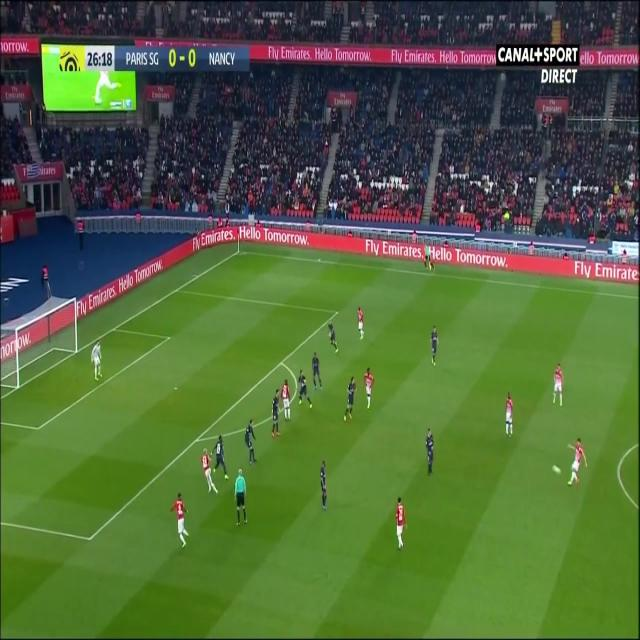Ball: (552, 461, 564, 478)
Goalkeeper: (90, 338, 104, 382)
Player: (168, 488, 192, 552), (393, 493, 412, 558), (566, 434, 588, 490), (200, 444, 223, 497), (210, 429, 230, 480), (242, 413, 260, 468), (342, 371, 358, 427), (503, 389, 519, 444), (296, 363, 314, 411), (550, 361, 566, 411), (280, 373, 294, 428), (270, 388, 285, 438), (362, 362, 376, 415), (308, 348, 325, 391), (324, 317, 341, 357), (319, 456, 330, 514), (424, 426, 435, 480), (355, 302, 367, 346), (429, 324, 440, 369)
Referee: (232, 464, 250, 527), (422, 242, 436, 272)
